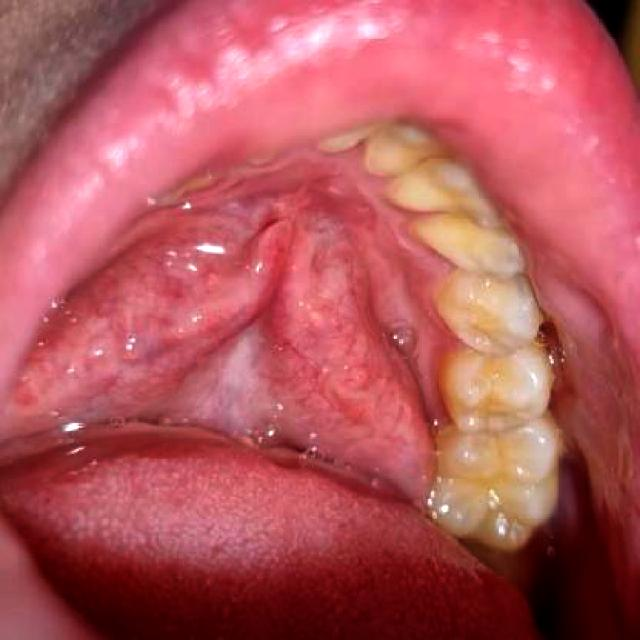Plaque: (427, 338, 462, 415)
